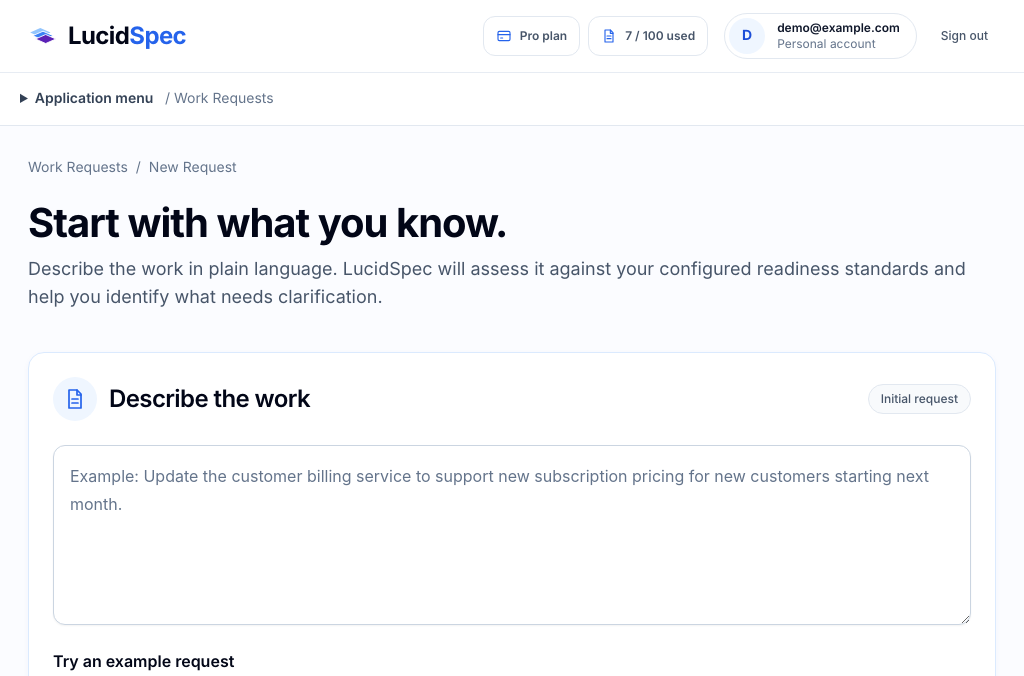
Test: generator intake › retains edited input and placeholder state on assessment failure and permits retry
The width and height of the screenshot is (1024, 676).
Check: the heading "Start with what you know." is shown, box [28,198,507,247]
Check: the text "7 / 100 used" is shown, box [588,16,708,56]
In the text box labelled "Describe the work": (512, 535) [53,445,971,625], type "  Fix the billing API retry bug  "
(page scrolled)
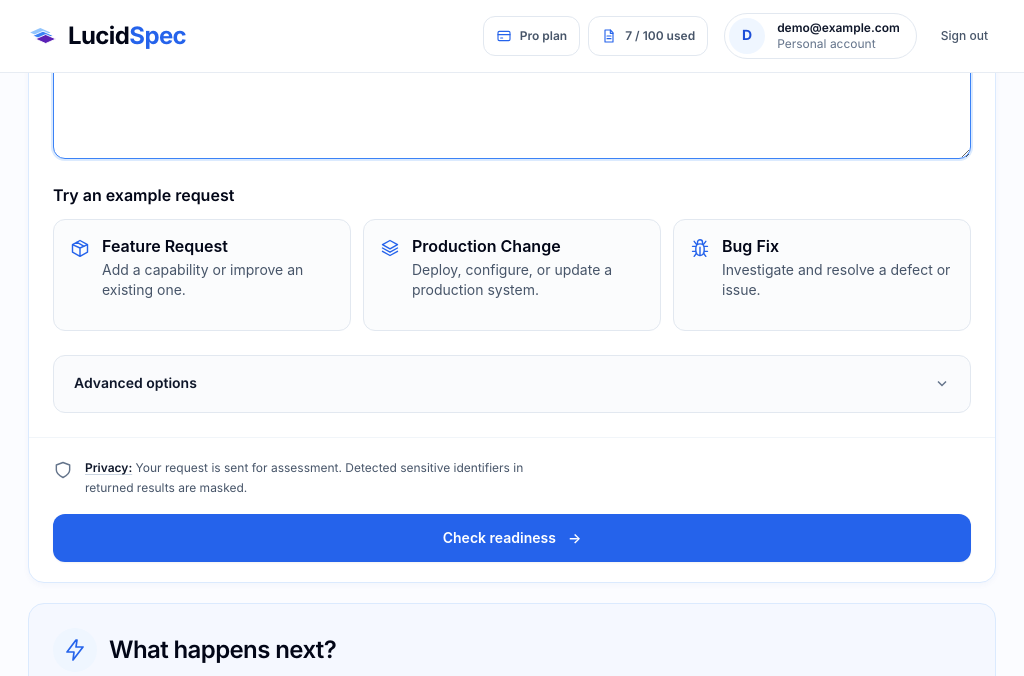
Click the heading "Advanced options": (135, 384) [74,375,950,392]
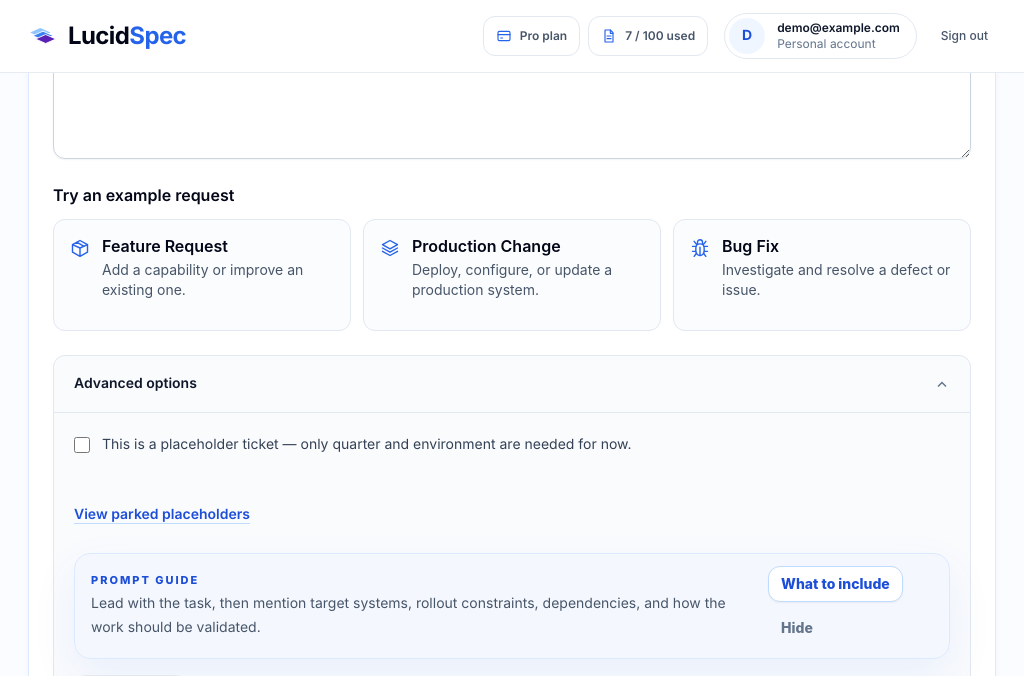
Click the checkbox: (82, 445) [74,437,90,453]
(page scrolled)
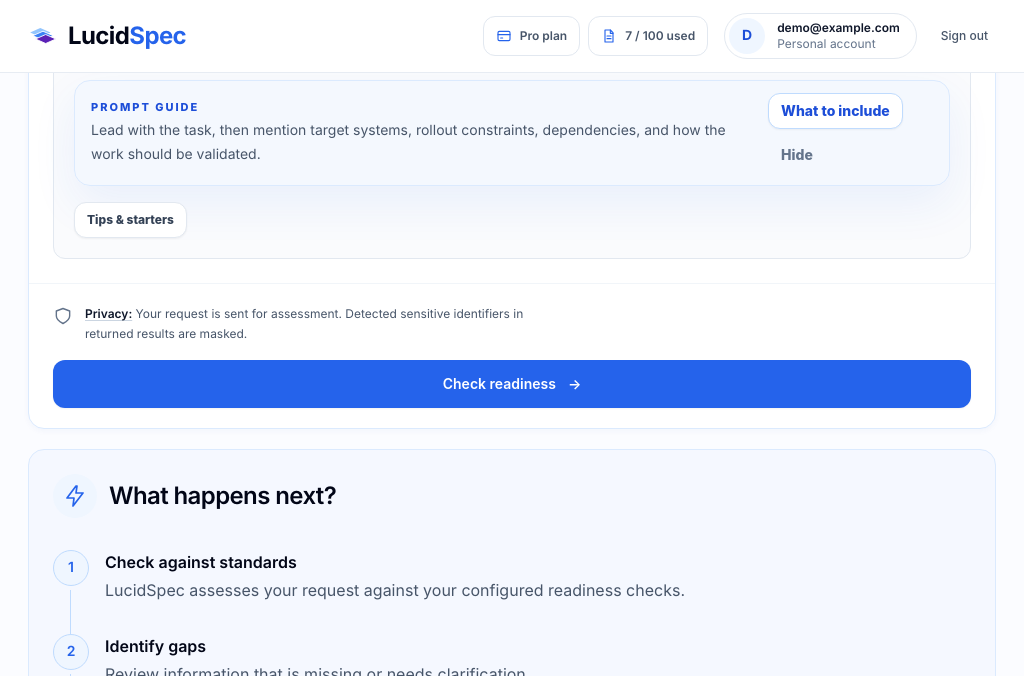
Click the button "Check readiness →": (512, 384) [53,360,971,408]
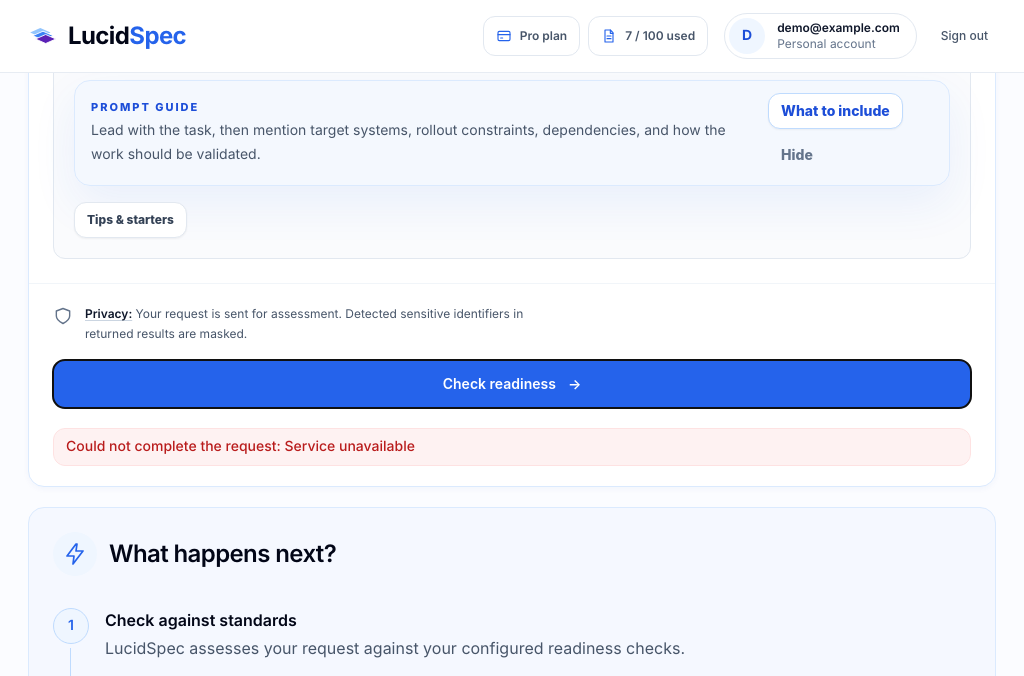
Check: the message shows "Service unavailable", box [66,438,415,455]
Click the button "Check readiness →": (512, 384) [53,360,971,408]
(page scrolled)
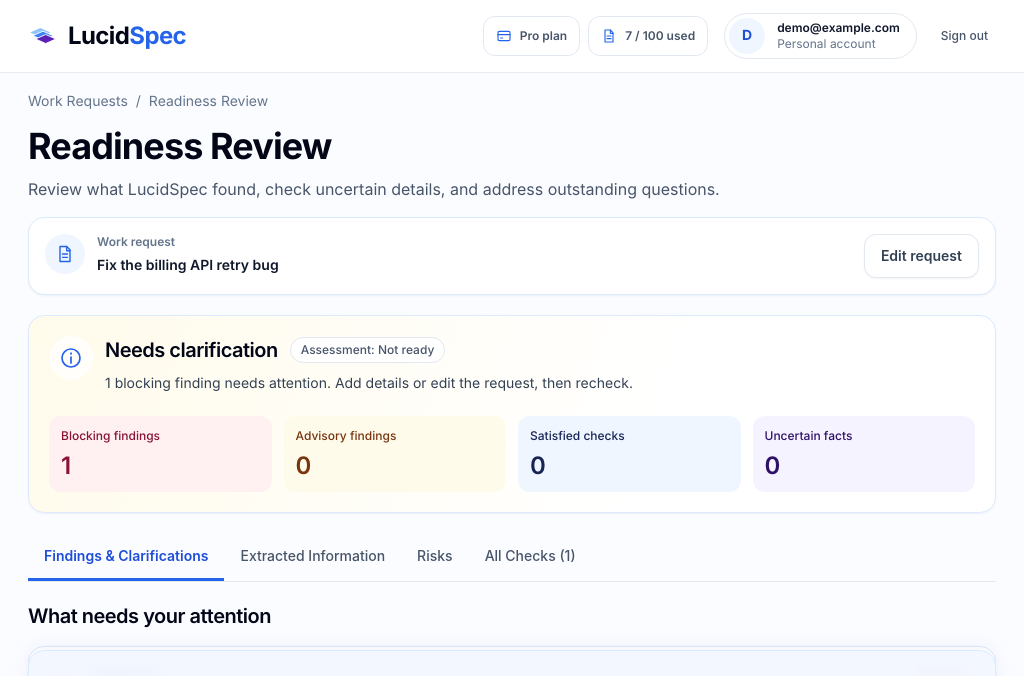
Check: the text "1 blocking finding needs attention. Add details or edit the request, then recheck." is shown, box [105,375,633,392]
